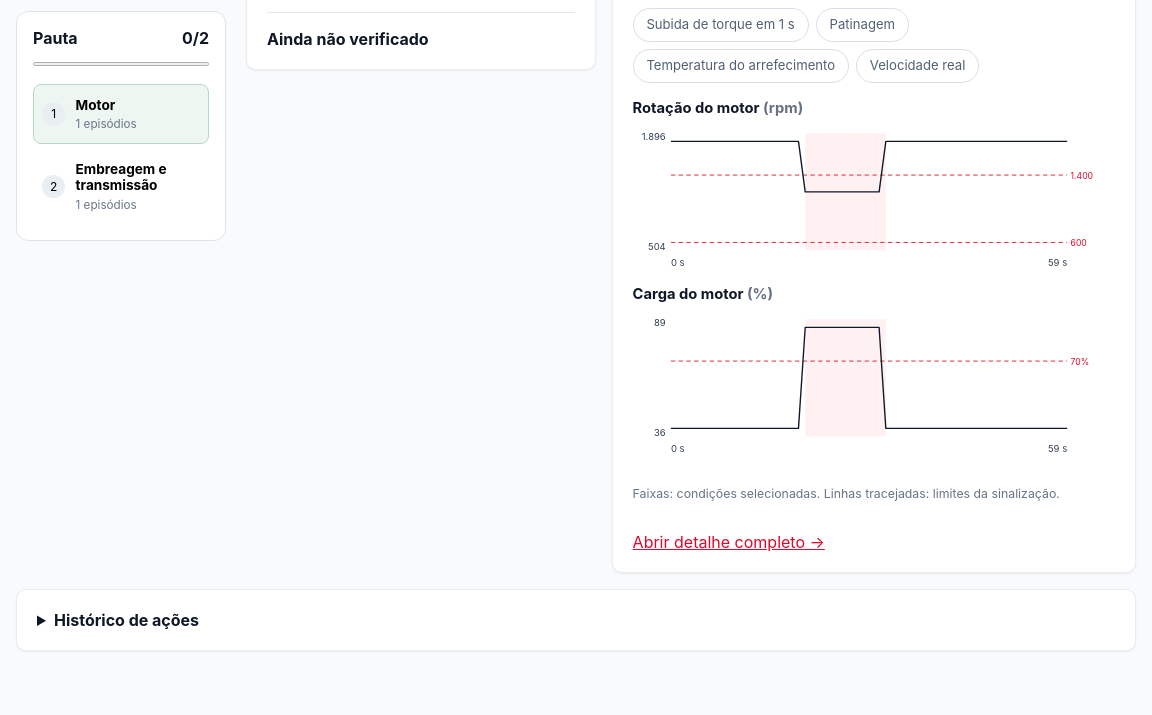
it: Inspection workspace › admin consulta itens, sinais e histórico sem ações operacionais
The image size is (1152, 715).
(page scrolled)
Click the heading "Histórico de ações": (126, 620) [54,610,199,630]
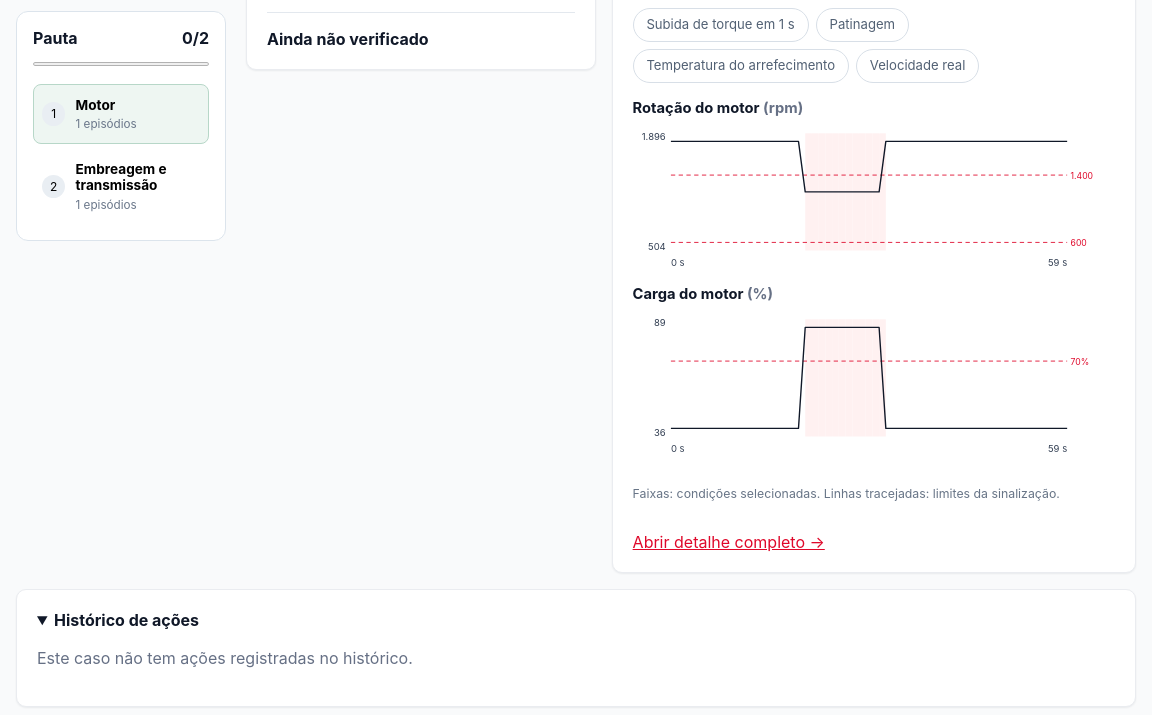
Check: the text "Este caso não tem ações registradas no histórico." is shown, box [37,648,413,668]
